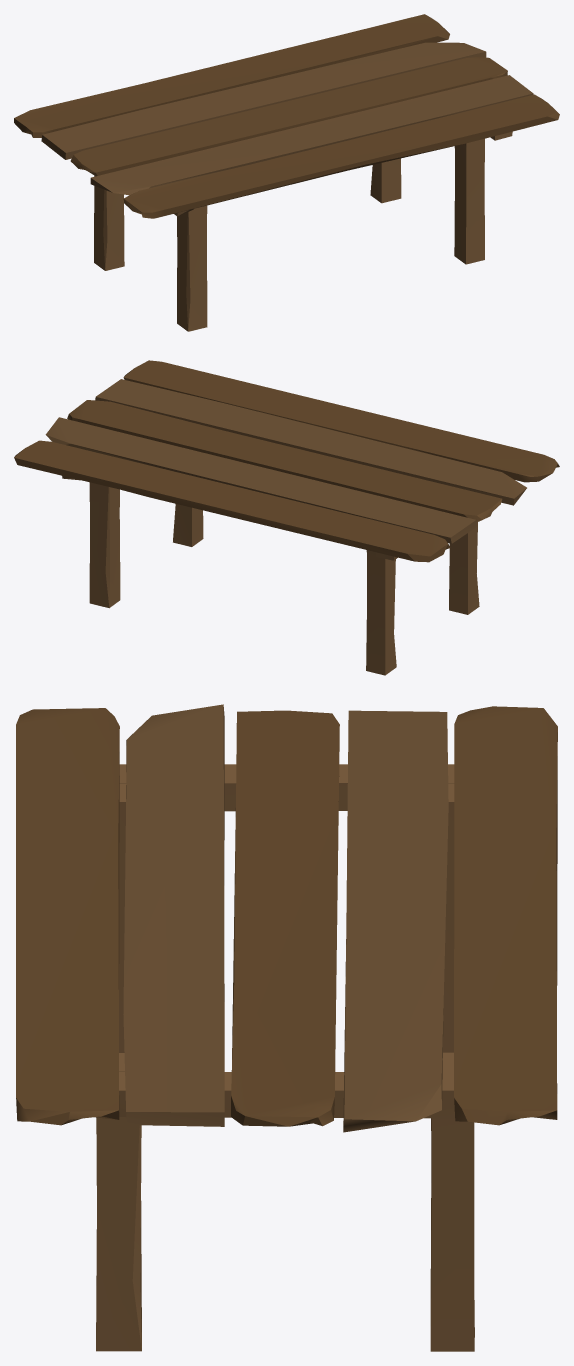
File: SM_Prop_Table_01.obj
3 views of the same model, one above another, from view 1: azimuth 30°, elevation 25°; view 2: azimuth 150°, elevation 25°; view 3: azimuth 270°, elevation 25° (orthographic). The views are drawn at different scales.
Visible parts, largest first — view 1: SM_Prop_Table_01_Mat_SwatchOverlay_Farm_01_Wood_Inst; view 2: SM_Prop_Table_01_Mat_SwatchOverlay_Farm_01_Wood_Inst; view 3: SM_Prop_Table_01_Mat_SwatchOverlay_Farm_01_Wood_Inst.
Boxes of the visible parts, <box> form: SM_Prop_Table_01_Mat_SwatchOverlay_Farm_01_Wood_Inst: <box>14,14,559,331</box>; SM_Prop_Table_01_Mat_SwatchOverlay_Farm_01_Wood_Inst: <box>14,360,559,675</box>; SM_Prop_Table_01_Mat_SwatchOverlay_Farm_01_Wood_Inst: <box>16,704,557,1351</box>.
Size of the model in its own units: 2.46 by 0.819 by 1.36.
1 material, 1 textured.
